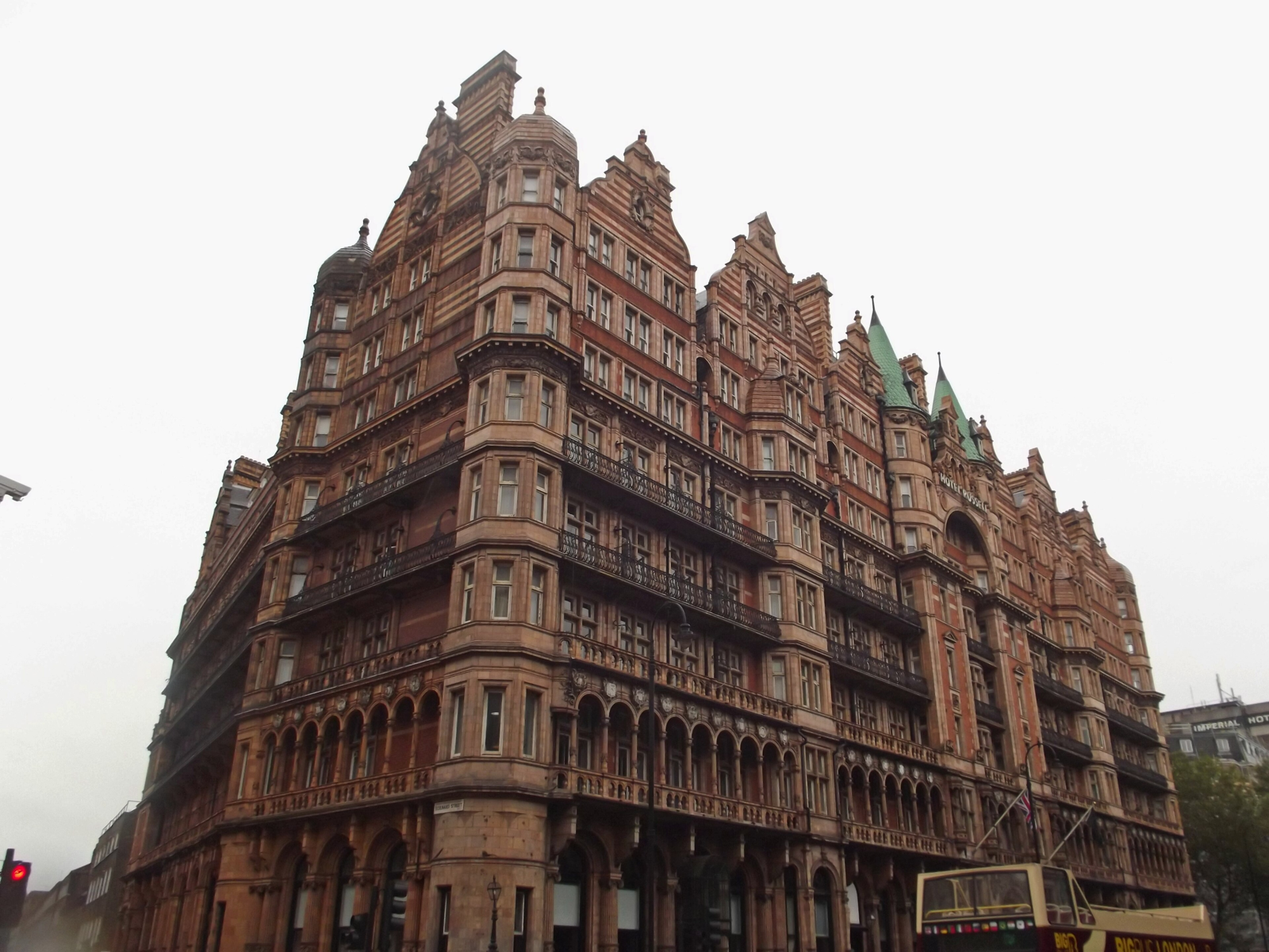fachada: (108, 21, 1221, 952), (16, 799, 137, 947), (1166, 680, 1269, 780)
